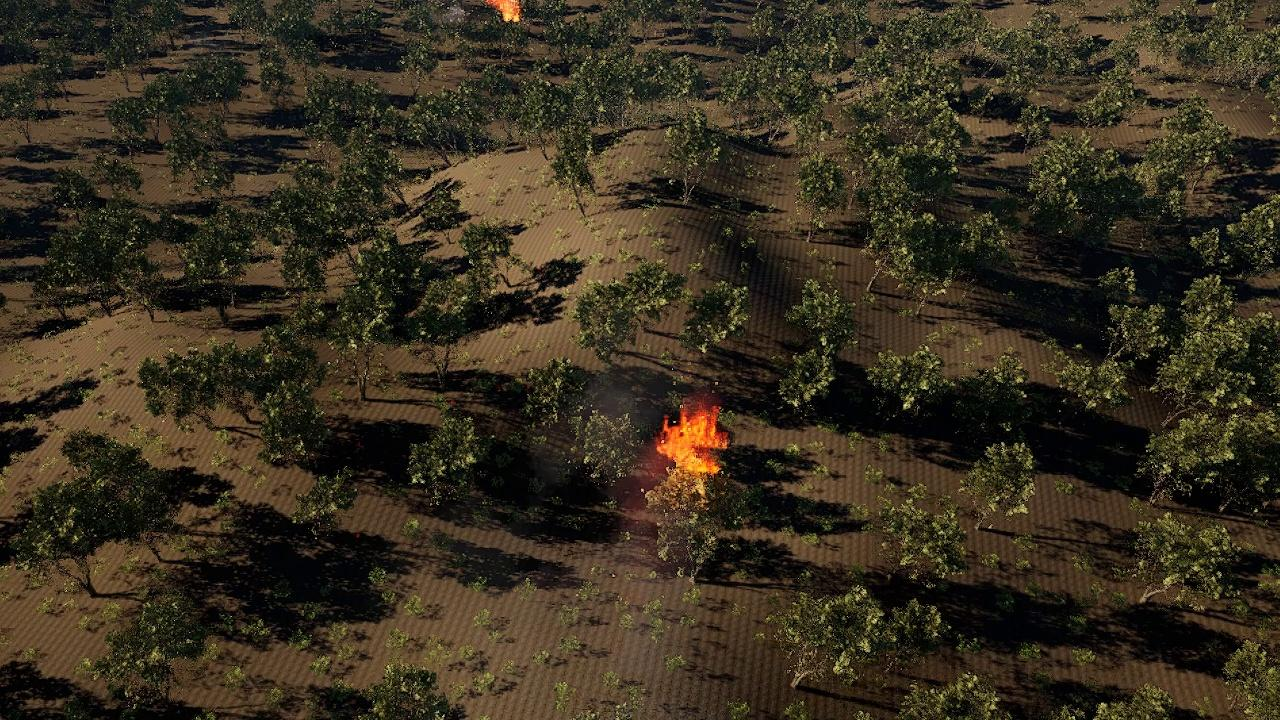fire: (658, 404, 730, 477), (486, 0, 524, 21)
smoke: (552, 371, 663, 471)
